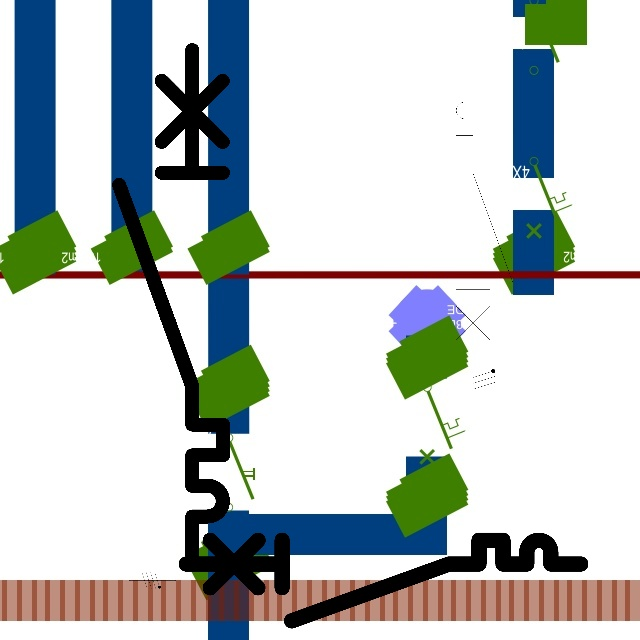interruptor_termomagnetico: (106, 37, 236, 568), (175, 530, 590, 631), (449, 74, 519, 363)
